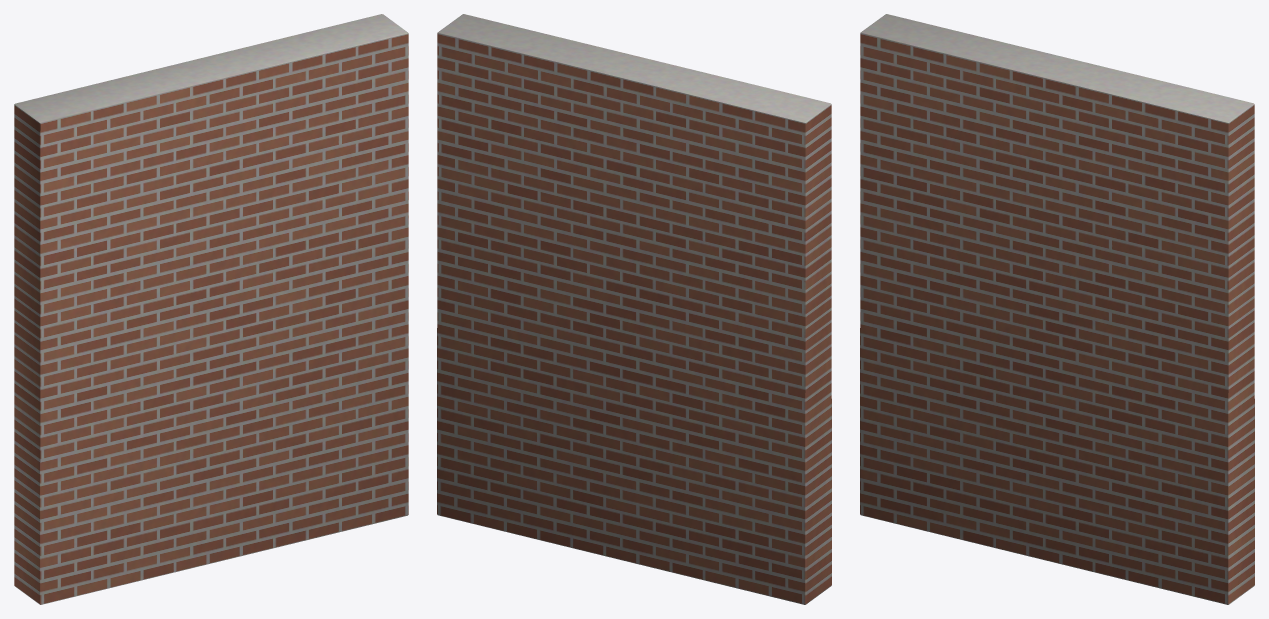
File: SM_BrickWallPanel_LOD1.fbx
3 views of the same model, side by side, from view 1: azimuth 30°, elevation 25°; view 2: azimuth 150°, elevation 25°; view 3: azimuth 330°, elevation 25° (orthographic).
Visible parts, largest first — view 1: SM_BrickWallPanel_LOD1; view 2: SM_BrickWallPanel_LOD1; view 3: SM_BrickWallPanel_LOD1.
Boxes of the visible parts, left/top/right/bottom form: SM_BrickWallPanel_LOD1: left=14, top=14, right=408, bottom=604; SM_BrickWallPanel_LOD1: left=437, top=14, right=831, bottom=604; SM_BrickWallPanel_LOD1: left=860, top=14, right=1254, bottom=604.
Bounding box in the file's own units: 2.4 × 3 × 0.2974.
Materials: 1 (1 with a texture image).
